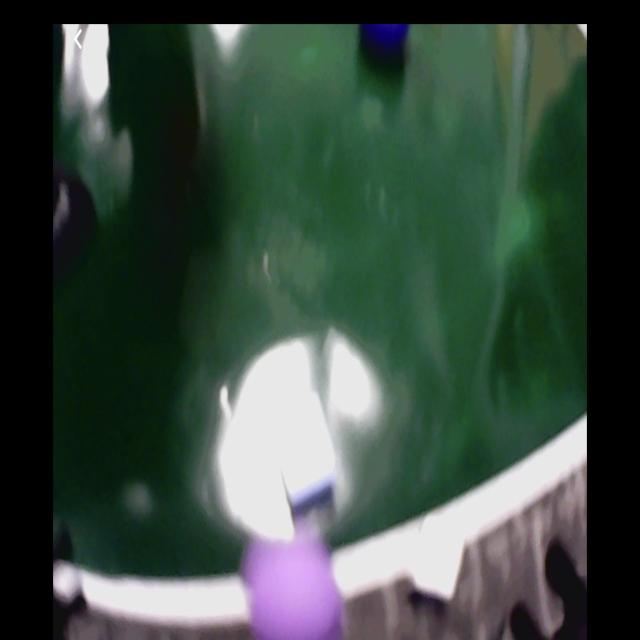ball: (248, 535, 339, 637), (362, 24, 409, 64)
